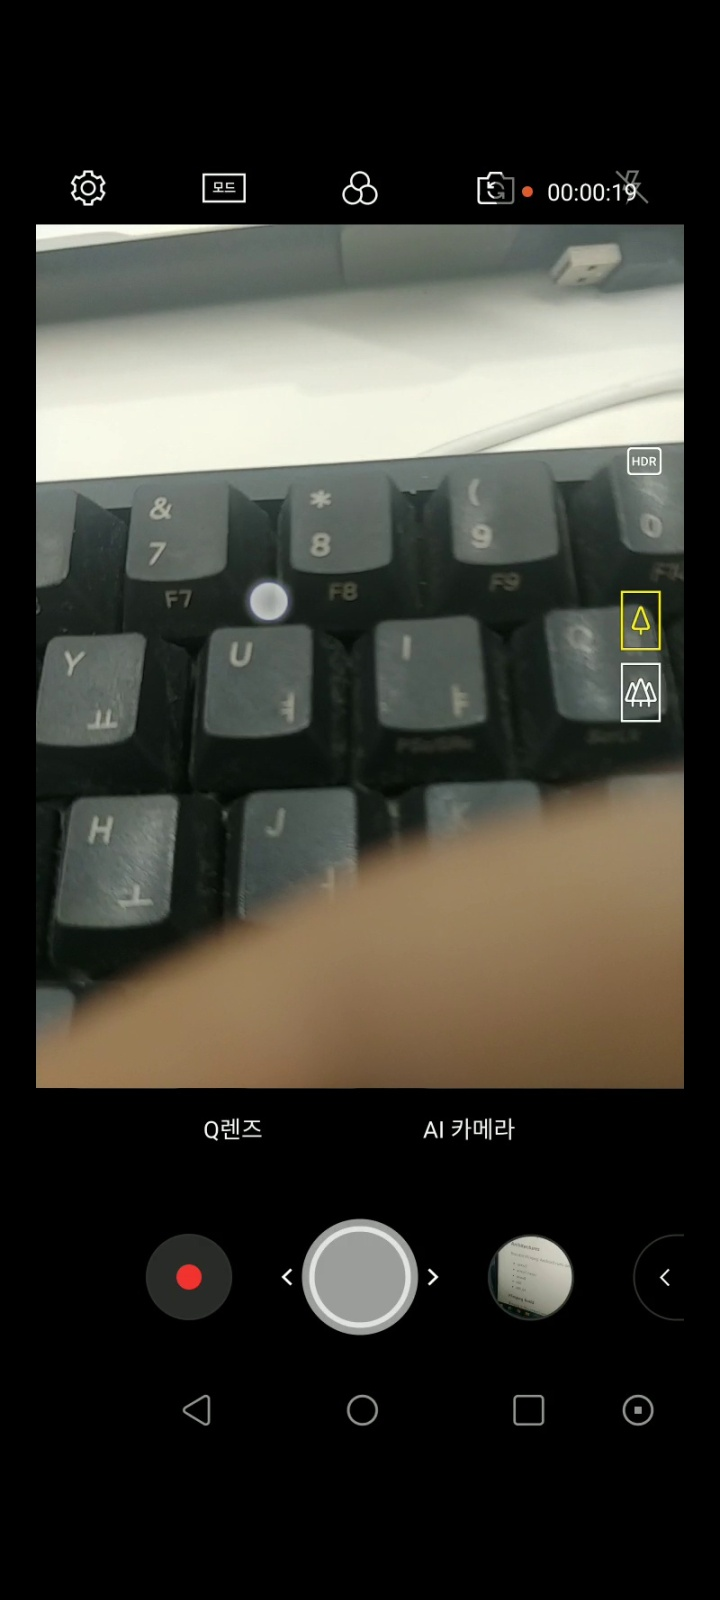Cursor: (247, 579, 292, 624)
